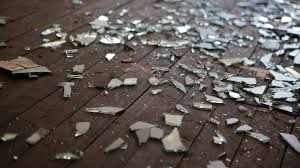glass: (129, 119, 165, 147), (160, 126, 192, 154), (82, 102, 127, 117), (276, 129, 300, 155), (266, 66, 300, 84), (176, 59, 209, 77), (101, 136, 132, 155), (68, 30, 100, 48), (25, 127, 54, 144), (224, 72, 261, 85), (256, 34, 285, 50), (56, 78, 76, 99), (160, 110, 185, 126), (168, 74, 187, 94), (272, 90, 299, 104), (258, 53, 277, 72), (242, 83, 269, 96), (72, 120, 93, 136), (248, 128, 269, 144), (190, 99, 217, 111), (218, 54, 245, 66), (209, 128, 228, 145), (104, 75, 124, 91), (233, 121, 253, 135), (123, 72, 140, 88), (203, 92, 225, 104), (146, 75, 166, 86), (270, 78, 294, 87), (103, 49, 118, 63), (223, 114, 240, 126), (150, 87, 166, 95)
